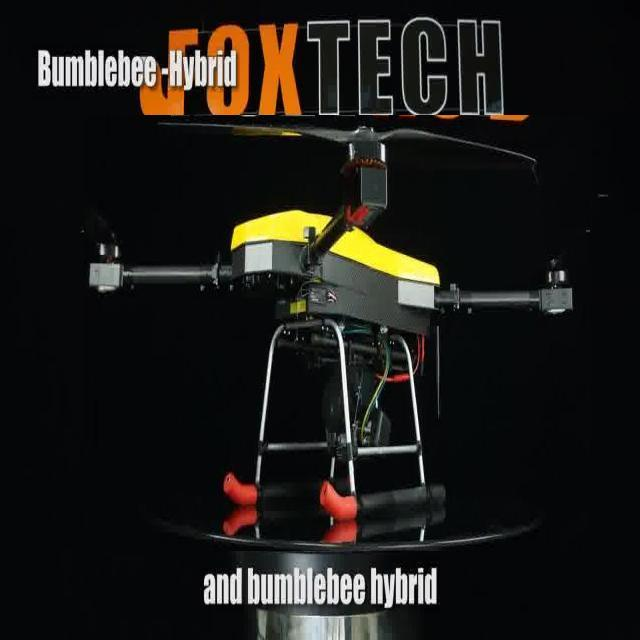drone: (84, 116, 590, 552)
